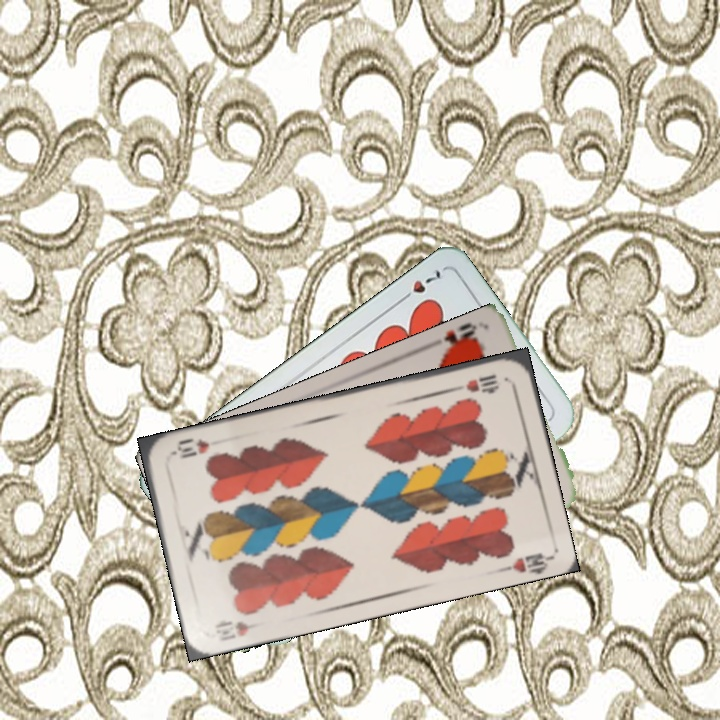H10: (216, 617, 267, 644), (449, 370, 501, 395)
H7: (394, 265, 444, 305)
HO: (435, 319, 483, 361)
